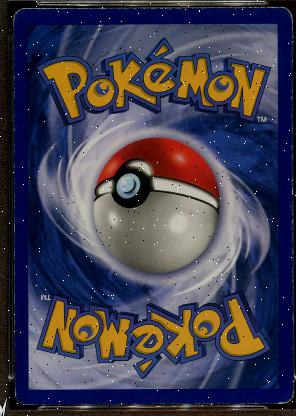Card: (9, 4, 293, 408)
Corner Wear: (269, 5, 293, 31), (267, 382, 294, 404), (13, 388, 38, 406), (11, 6, 27, 30)
Edge Wear: (12, 31, 15, 237), (26, 7, 278, 9), (288, 142, 292, 244), (290, 246, 293, 356), (289, 33, 292, 141), (14, 242, 16, 382), (72, 402, 178, 404), (191, 402, 258, 404), (40, 403, 61, 405)
Scratch: (86, 10, 104, 20)
